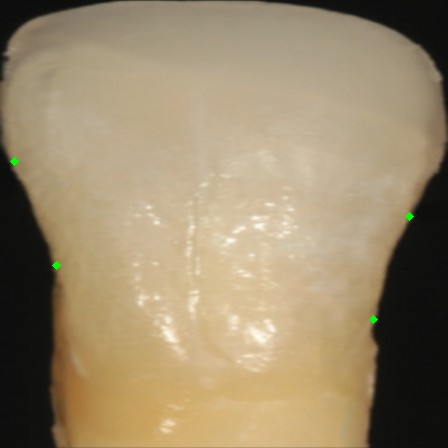coin_1: (373, 319, 393, 339)
coin_2: (409, 216, 429, 236)
coin_3: (56, 265, 76, 285)
coin_4: (14, 161, 34, 181)
